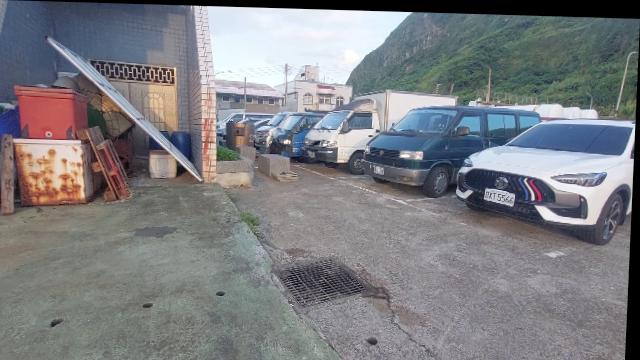pollute: (14, 73, 138, 206), (148, 147, 181, 180), (158, 129, 192, 159), (4, 135, 16, 215), (0, 106, 20, 141)
